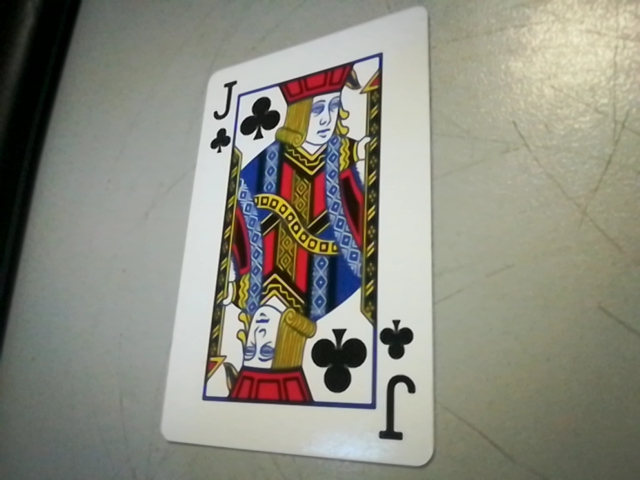mh j: (371, 314, 430, 457), (201, 75, 247, 152)
